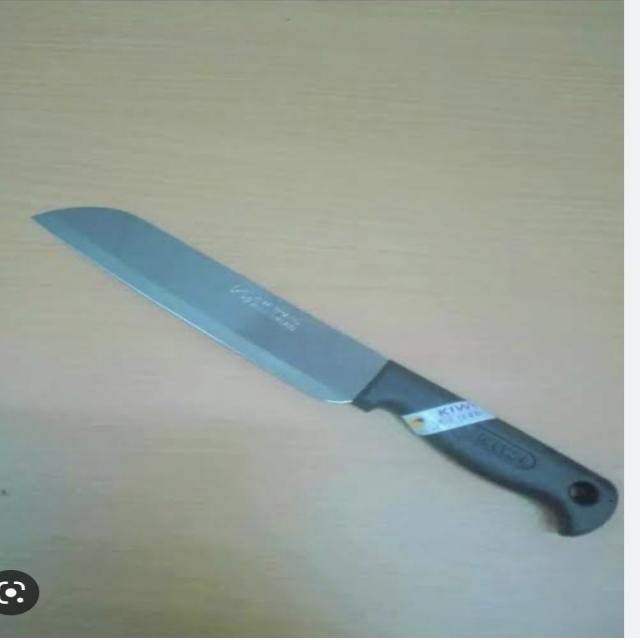Knife: (27, 190, 623, 550)
